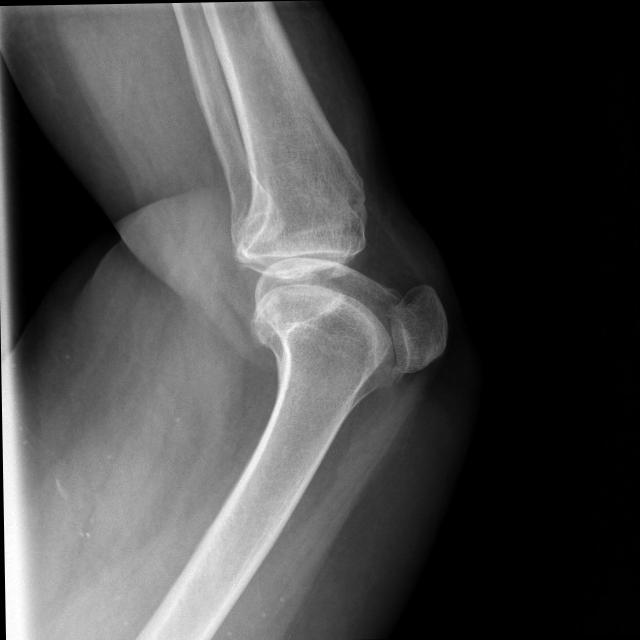Knee: (235, 178, 454, 382)
